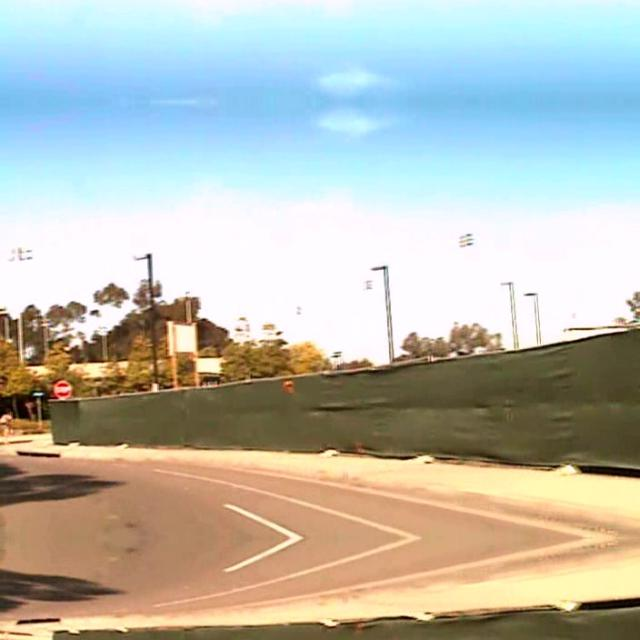stop: (53, 379, 71, 397)
